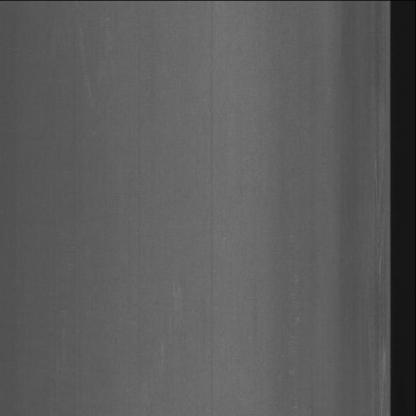silk_spot: (371, 89, 388, 392)
